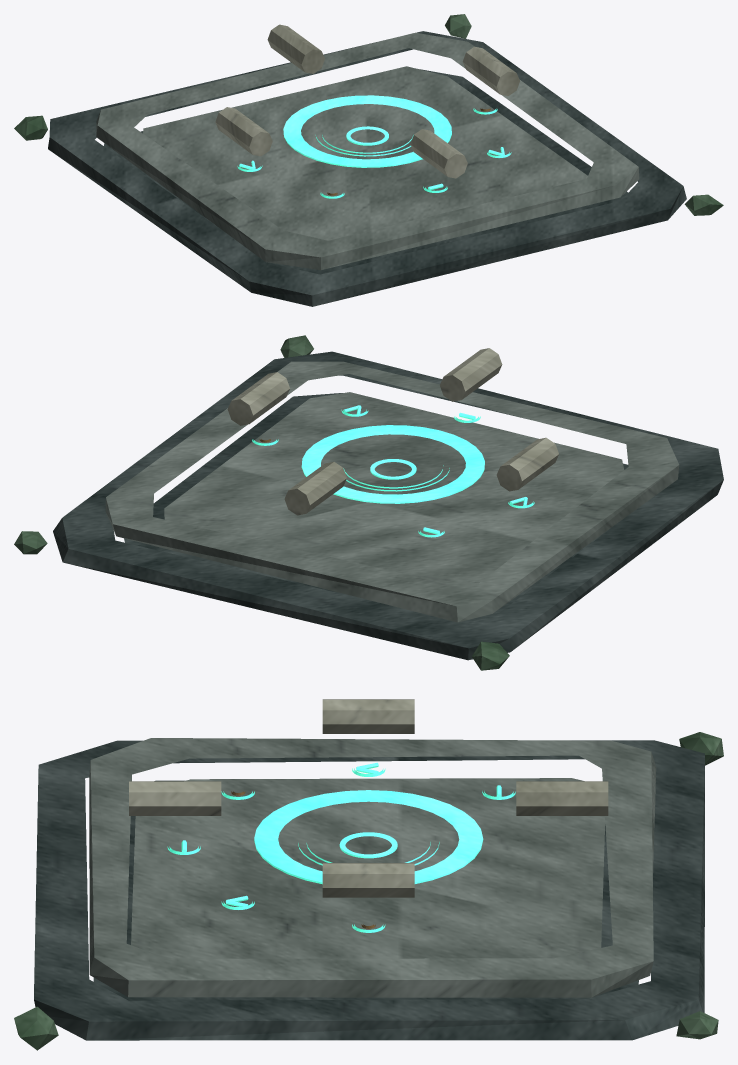
The model's file is 0559_rune_dais_09.glb.
3 views of the same model, one above another, from view 1: azimuth 30°, elevation 25°; view 2: azimuth 150°, elevation 25°; view 3: azimuth 270°, elevation 25° (orthographic). The views are drawn at different scales.
Visible parts, largest first — view 1: stone, stone_dark, stone_light, glow, moss; view 2: stone, stone_dark, stone_light, glow, moss; view 3: stone, stone_dark, stone_light, glow, moss.
Boxes of the visible parts, x1,y1,x2,y2 form: stone: (96,32,639,270); stone_dark: (48,31,686,306); stone_light: (215,24,519,178); glow: (237,95,511,198); moss: (14,14,723,215); stone: (105,361,679,622); stone_dark: (53,351,723,660); stone_light: (227,348,558,515); glow: (252,405,534,537); moss: (14,335,509,670); stone: (89,738,656,997); stone_dark: (34,740,704,1040); stone_light: (129,699,608,897); glow: (167,762,515,932); moss: (14,732,723,1050).
Size of the model in its own units: 3.85 by 0.7317 by 3.85.
6 materials, 6 textured.
